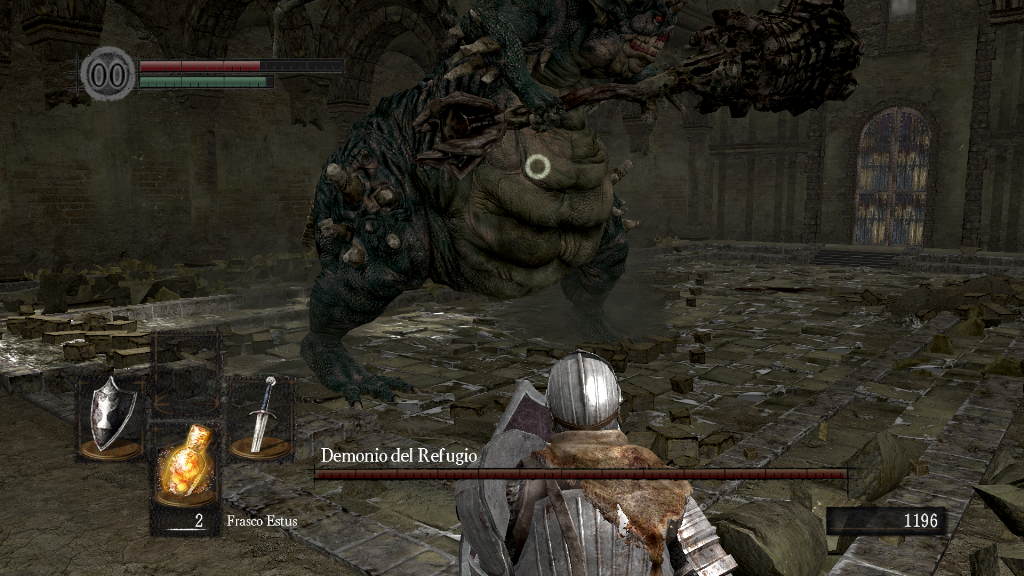asylumDemon: (271, 1, 865, 411)
bossHP: (314, 469, 847, 479)
health: (138, 58, 343, 71)
humanity: (80, 45, 136, 102)
player: (453, 349, 741, 576)
souls: (825, 506, 945, 536)
stamina: (138, 74, 274, 88)
